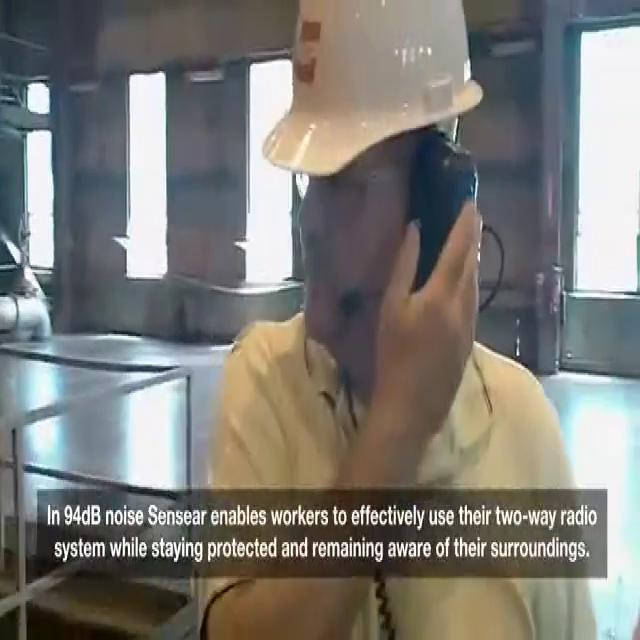earmuff: (406, 128, 478, 308)
